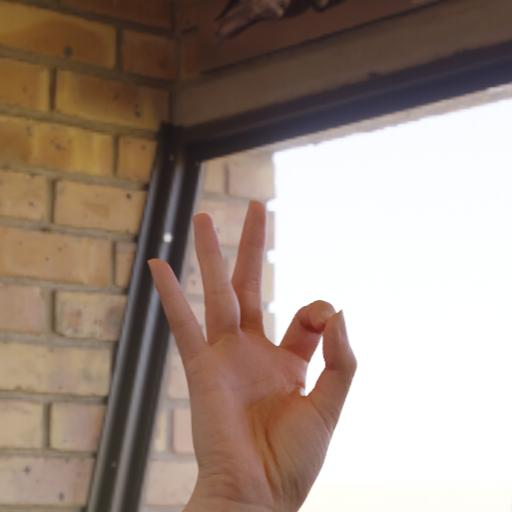F: (104, 149, 378, 512)
